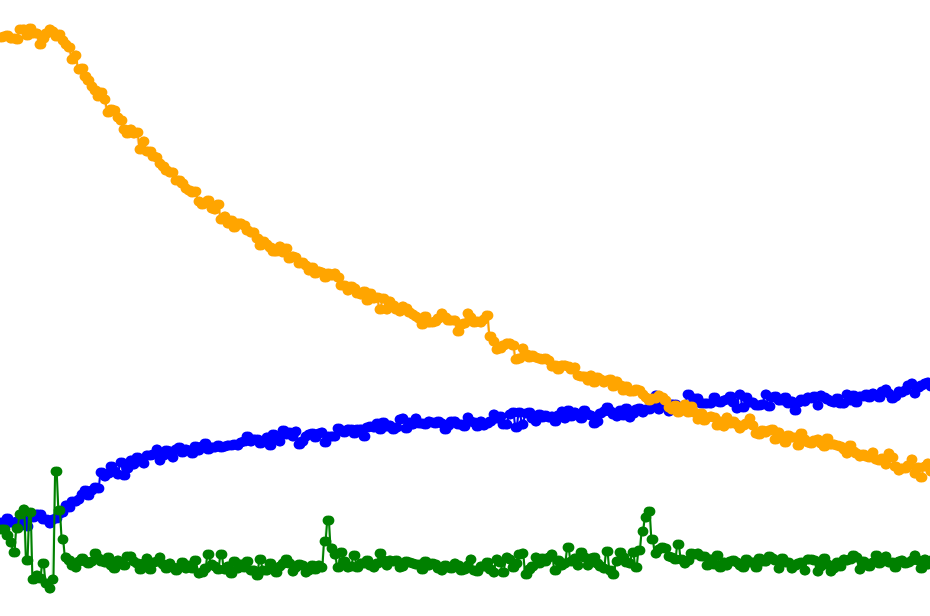CO2 Problem: (505, 0, 738, 616), (77, 0, 194, 616), (233, 0, 349, 616), (816, 0, 930, 616), (427, 0, 505, 616), (738, 0, 816, 616), (0, 0, 77, 616)
Condensation (CO2): (505, 0, 738, 616), (194, 0, 311, 616), (505, 0, 622, 616)
High CO2: (738, 0, 930, 616), (349, 0, 505, 616), (816, 0, 930, 616)
High O2: (77, 0, 194, 616), (233, 0, 349, 616), (0, 0, 77, 616)
Lid Open: (816, 0, 930, 616), (738, 0, 816, 616)
Low CO2: (505, 0, 738, 616), (77, 0, 194, 616), (233, 0, 349, 616), (816, 0, 930, 616), (738, 0, 816, 616), (0, 0, 77, 616)
Low O2: (505, 0, 738, 616), (738, 0, 816, 616)
Normal: (505, 0, 930, 616), (194, 0, 505, 616), (427, 0, 738, 616), (505, 0, 816, 616), (194, 0, 466, 616), (233, 0, 505, 616), (77, 0, 311, 616), (505, 0, 738, 616), (0, 0, 194, 616), (505, 0, 699, 616), (738, 0, 930, 616), (77, 0, 194, 616), (194, 0, 311, 616), (233, 0, 349, 616), (816, 0, 930, 616), (349, 0, 427, 616), (427, 0, 505, 616), (738, 0, 816, 616), (0, 0, 77, 616)
O2 Problem: (349, 0, 505, 616), (77, 0, 194, 616), (505, 0, 622, 616), (233, 0, 349, 616), (233, 0, 311, 616), (427, 0, 505, 616), (0, 0, 77, 616)
